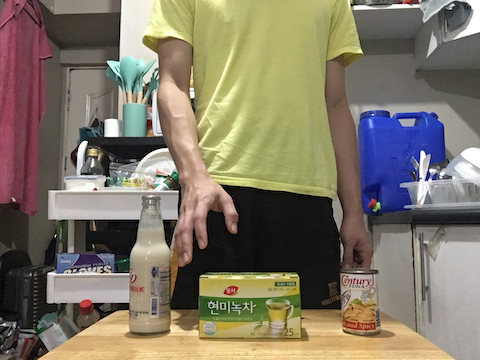bottle: (124, 190, 175, 337)
box: (191, 270, 308, 341)
can: (336, 265, 386, 337)
